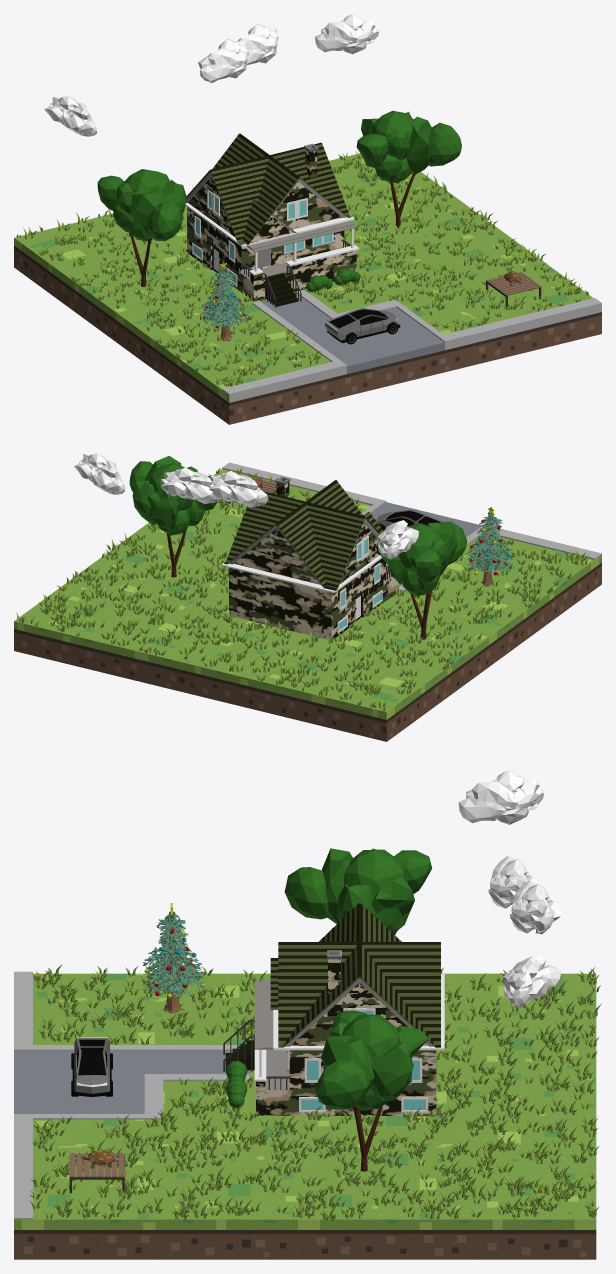
3 renders of one model, top to bottom at view 1: azimuth 30°, elevation 25°; view 2: azimuth 150°, elevation 25°; view 3: azimuth 270°, elevation 25°, orthographic. The views are drawn at different scales.
Parts seen in each view (by area): view 1: Cube.006, Cube.001, Circle.012_Grass_0.192, Cube.007, tree, tree.001, OBJRANDOM_CHRISTMAS_TREE, VEHICLES_CYBERTRUCK, Cube.009; view 2: Cube.006, Cube.001, Circle.012_Grass_0.192, Cube.007, tree.001, tree, OBJRANDOM_CHRISTMAS_TREE, VEHICLES_CYBERTRUCK; view 3: Cube.006, Circle.012_Grass_0.192, Cube.001, tree, Cube.007, tree.001, OBJRANDOM_CHRISTMAS_TREE, VEHICLES_CYBERTRUCK, Cube.009.
Part boxes in pixels (<box>): Cube.006: <box>14,153,601,424</box>; Cube.001: <box>185,133,359,307</box>; Circle.012_Grass_0.192: <box>16,150,588,386</box>; Cube.007: <box>44,14,378,136</box>; tree: <box>356,110,461,228</box>; tree.001: <box>97,169,186,286</box>; OBJRANDOM_CHRISTMAS_TREE: <box>199,262,249,341</box>; VEHICLES_CYBERTRUCK: <box>325,308,400,344</box>; Cube.009: <box>486,272,541,306</box>; Cube.006: <box>14,462,601,741</box>; Cube.001: <box>221,476,398,640</box>; Circle.012_Grass_0.192: <box>16,468,588,711</box>; Cube.007: <box>74,453,418,559</box>; tree.001: <box>375,521,467,639</box>; tree: <box>129,456,216,577</box>; OBJRANDOM_CHRISTMAS_TREE: <box>465,506,512,587</box>; VEHICLES_CYBERTRUCK: <box>376,509,444,530</box>; Cube.006: <box>14,971,596,1259</box>; Circle.012_Grass_0.192: <box>29,964,601,1220</box>; Cube.001: <box>223,903,444,1115</box>; tree: <box>315,1010,428,1171</box>; Cube.007: <box>458,770,561,1007</box>; tree.001: <box>284,848,432,934</box>; OBJRANDOM_CHRISTMAS_TREE: <box>142,903,205,1014</box>; VEHICLES_CYBERTRUCK: <box>71,1037,112,1096</box>; Cube.009: <box>69,1153,124,1193</box>.
Size of the model in its own units: 4071 by 2328 by 4040.
36 materials, 5 textured.
